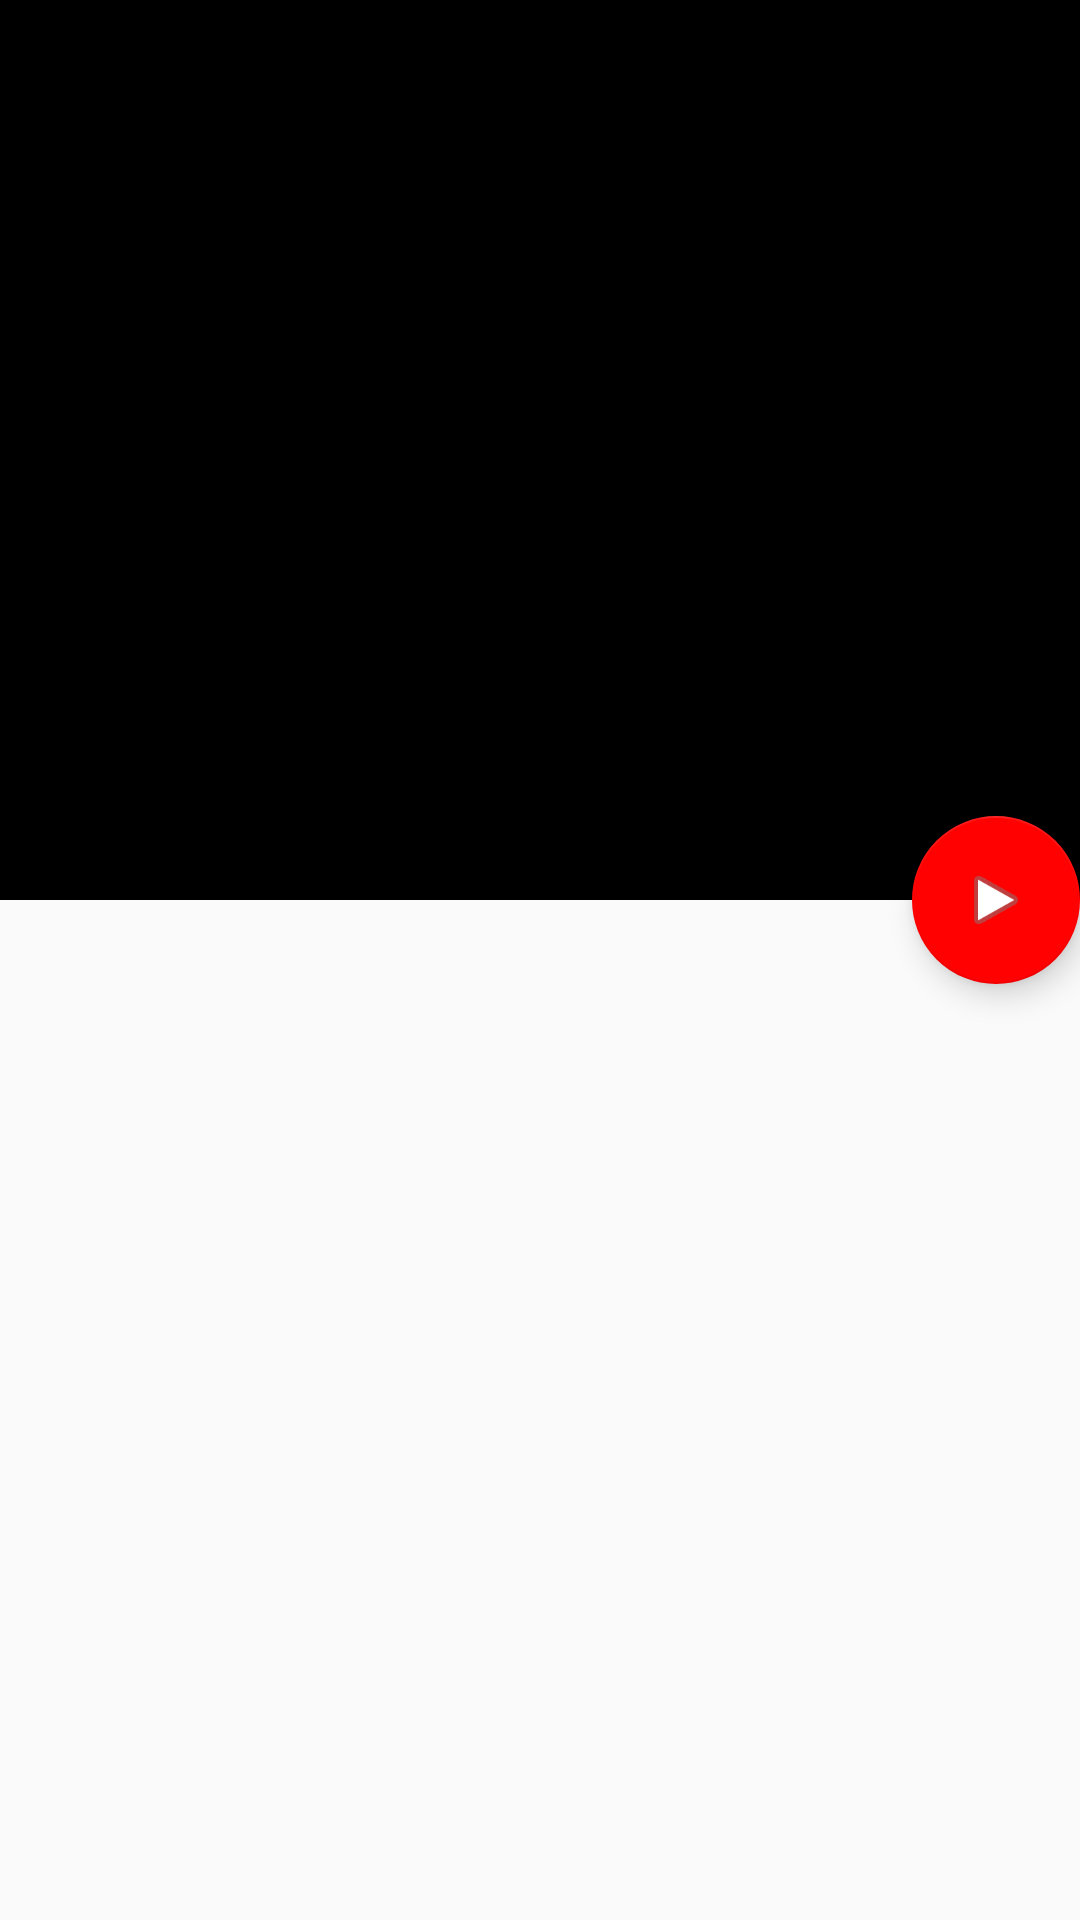

Screen size 1080px×1920px. Icon name, then its center in pixels as (x=x, y=y):
play: (x=996, y=900)
